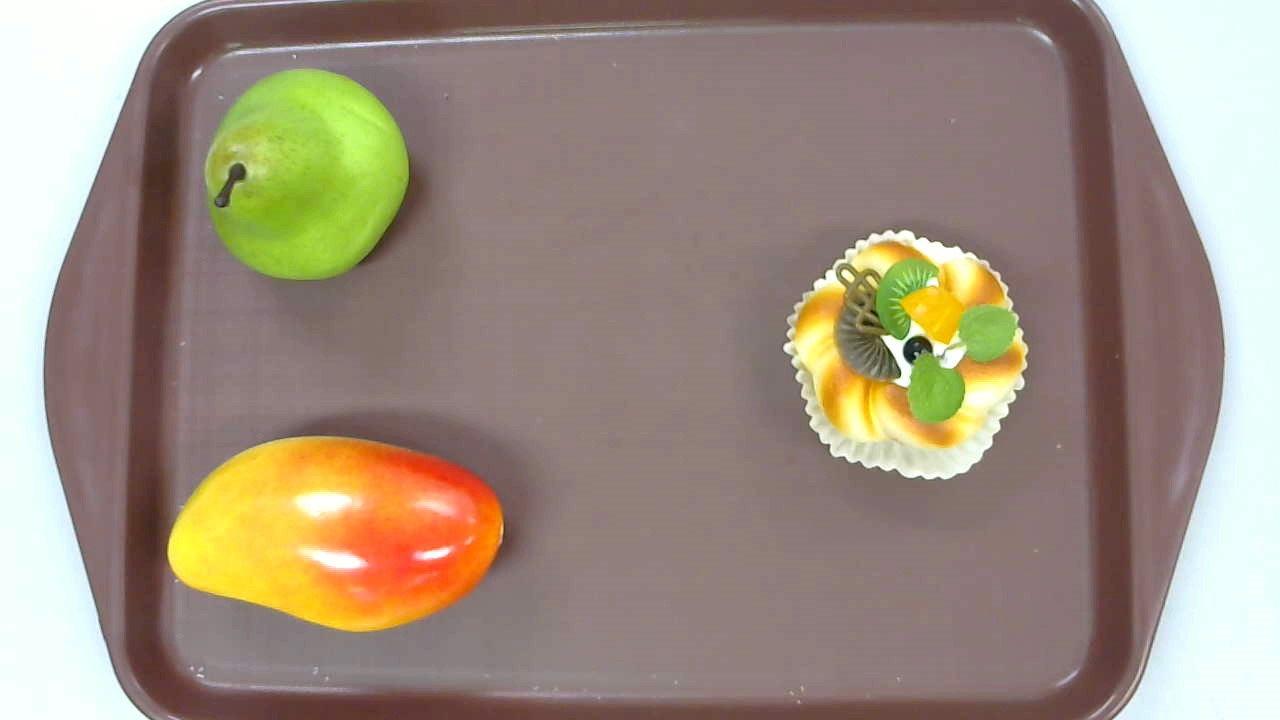fruit tart: (783, 228, 1029, 482)
green pear: (203, 68, 410, 282)
red mango: (167, 434, 504, 631)
